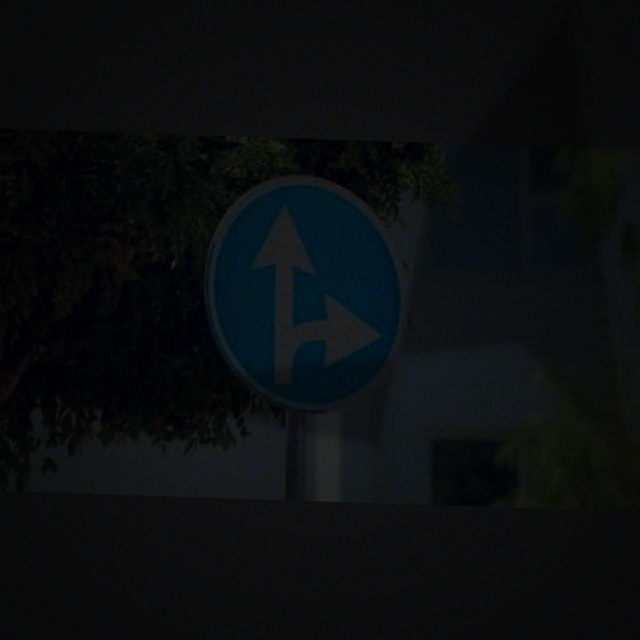Compulsory_Ahead_or_Turn_Right: (206, 172, 417, 417)
